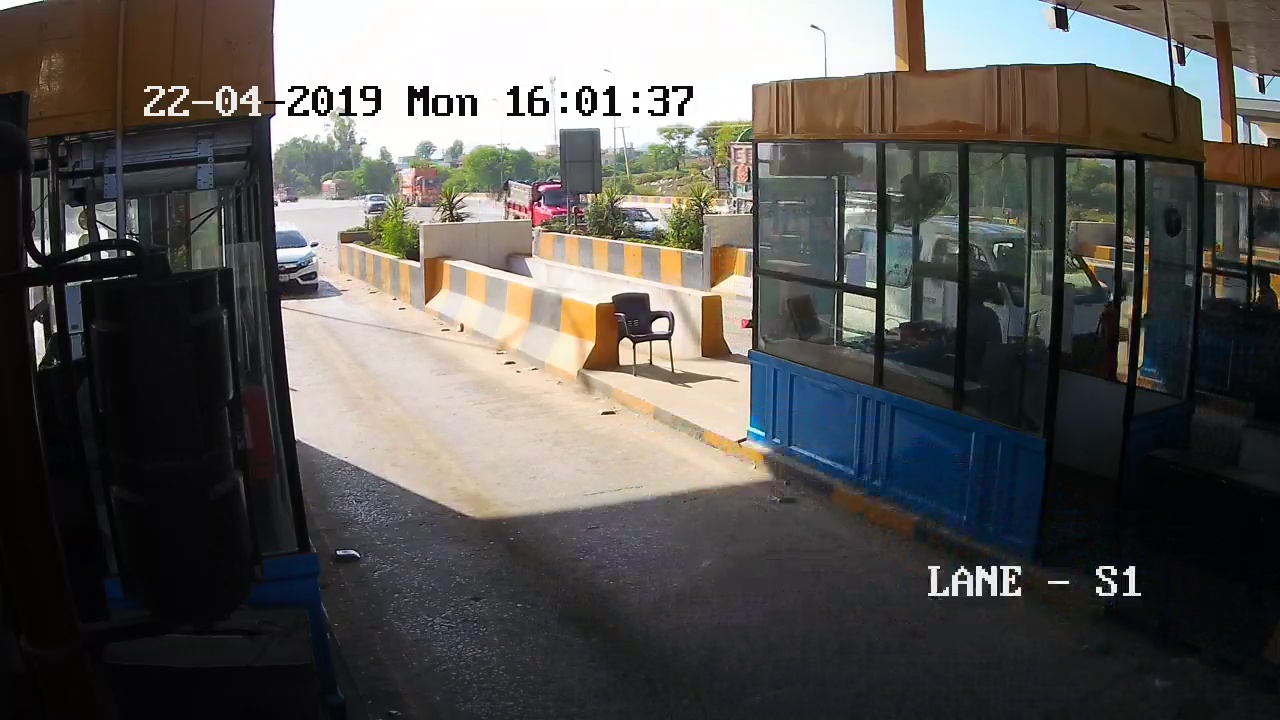car: (277, 222, 316, 302)
